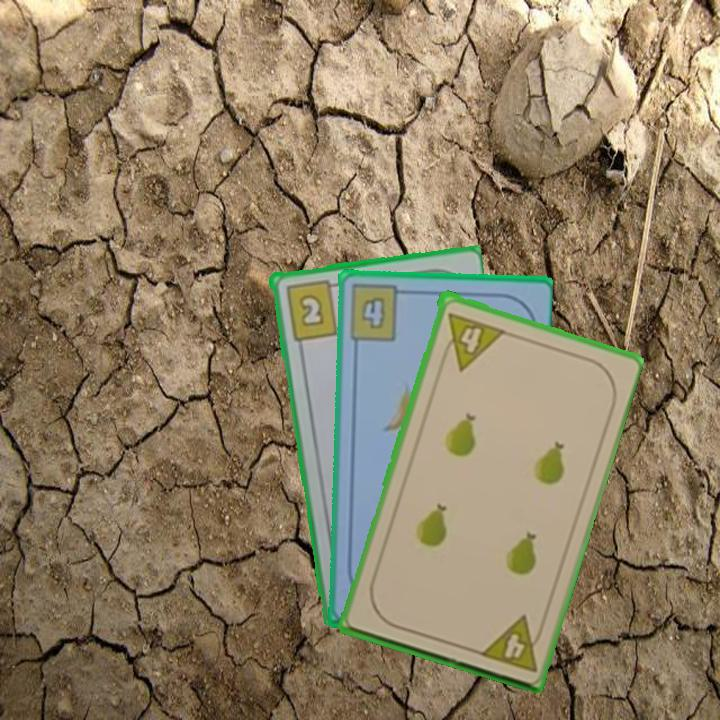2b: (281, 276, 343, 343)
4b: (345, 281, 411, 344)
4p: (476, 611, 548, 675), (436, 308, 506, 372)
